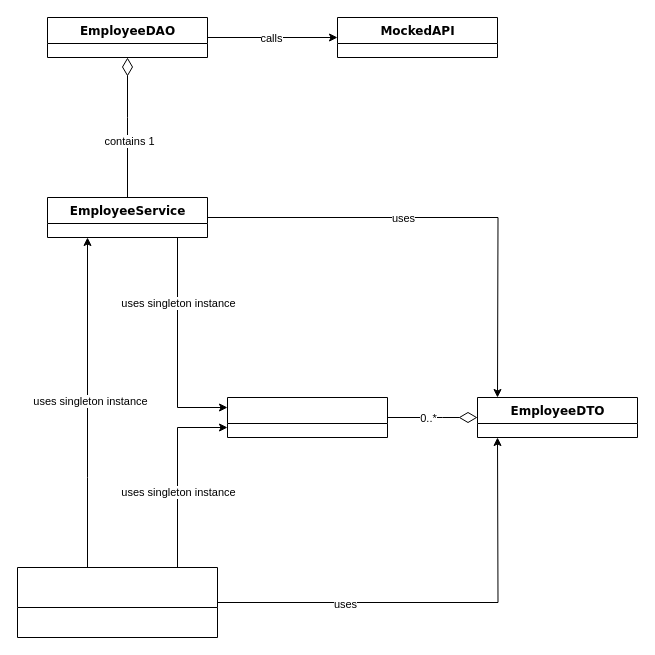
Some shapes in this 655 by 655 pixel diagram are drawn without their labels. Here are the shapes that lost their labels. From the top down, the box of each, then its label:
(226, 396, 388, 438): EmployeeModel
(16, 566, 218, 638): EmployeesTableComponent (or any other component)
